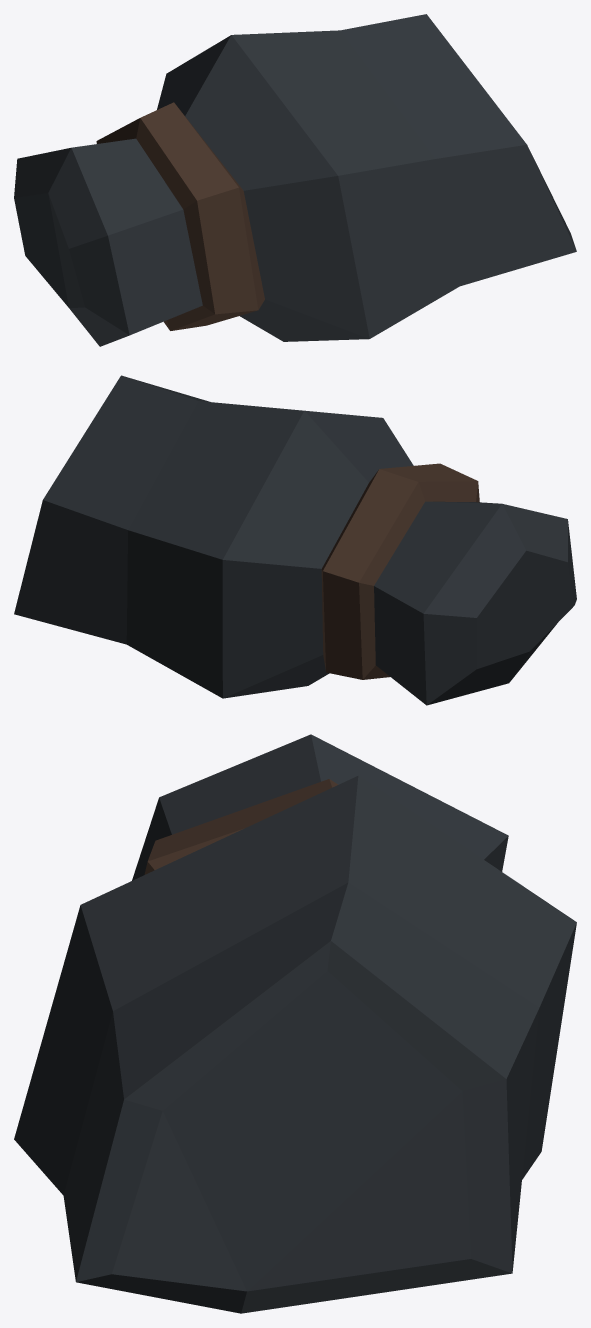
The model's file is Chr_ArmUpperRight_Male_17_Static.fbx.
3 renders of one model, top to bottom at view 1: azimuth 30°, elevation 25°; view 2: azimuth 150°, elevation 25°; view 3: azimuth 270°, elevation 25°, orthographic. The views are drawn at different scales.
Visible parts, largest first — view 1: Chr_ArmUpperRight_Male_17_Static; view 2: Chr_ArmUpperRight_Male_17_Static; view 3: Chr_ArmUpperRight_Male_17_Static.
Part boxes in pixels (x1,y1,x2,y2): Chr_ArmUpperRight_Male_17_Static: [14, 14, 576, 346]; Chr_ArmUpperRight_Male_17_Static: [14, 375, 576, 705]; Chr_ArmUpperRight_Male_17_Static: [14, 734, 576, 1313].
Bounding box in the file's own units: 0.3255 × 0.1948 × 0.2238.
